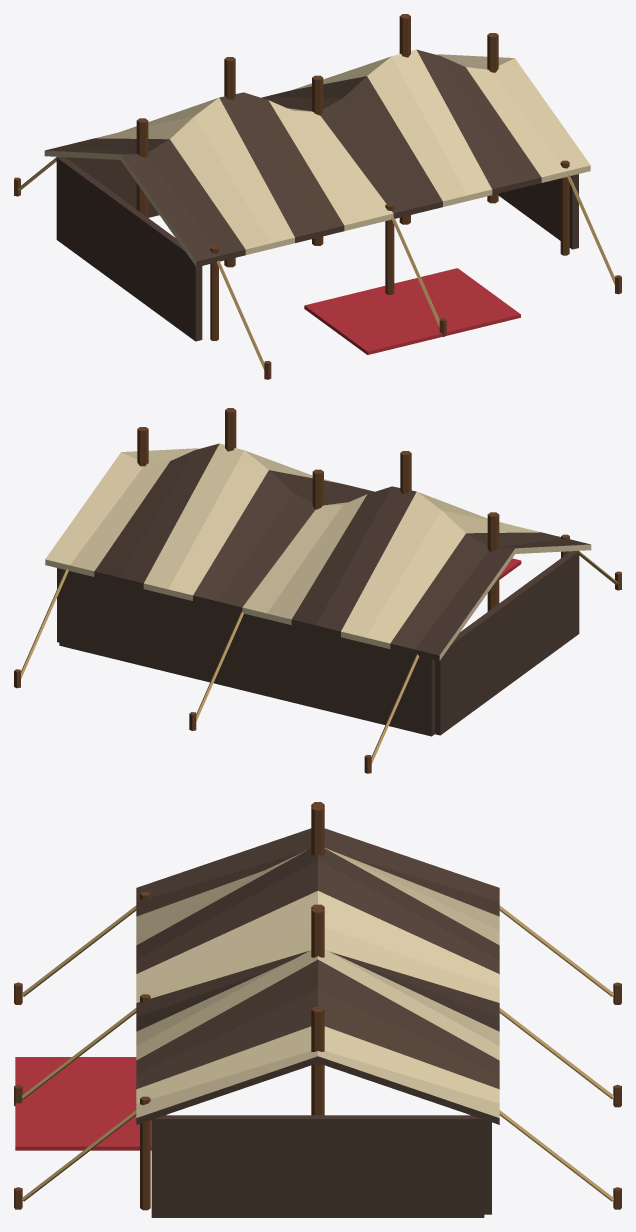
The model's file is desert-tent.glb.
3 renders of one model, top to bottom at view 1: azimuth 30°, elevation 25°; view 2: azimuth 150°, elevation 25°; view 3: azimuth 270°, elevation 25°, orthographic. The views are drawn at different scales.
Parts seen in each view (by area): view 1: Tent roof, Tent side walls, Tent rug, Tent poles, Tent back wall, Tent guy ropes, Tent pegs; view 2: Tent roof, Tent back wall, Tent side walls, Tent poles, Tent guy ropes, Tent pegs; view 3: Tent roof, Tent side walls, Tent rug, Tent guy ropes, Tent poles, Tent pegs, Tent back wall.
Boxes of the visible parts, x1,y1,x2,y2 form: Tent roof: (44, 49, 590, 267); Tent side walls: (56, 157, 578, 341); Tent rug: (304, 268, 520, 354); Tent poles: (136, 14, 569, 340); Tent back wall: (66, 157, 159, 217); Tent guy ropes: (17, 157, 614, 369); Tent pegs: (14, 177, 621, 379); Tent roof: (45, 443, 591, 661); Tent back wall: (59, 568, 434, 736); Tent side walls: (57, 551, 579, 735); Tent poles: (137, 408, 569, 611); Tent guy ropes: (21, 551, 618, 763); Tent pegs: (14, 571, 621, 773); Tent roof: (136, 828, 499, 1124); Tent side walls: (151, 1115, 484, 1217); Tent rug: (15, 1057, 166, 1150); Tent guy ropes: (22, 905, 613, 1201); Tent poles: (140, 802, 324, 1210); Tent pegs: (14, 982, 621, 1209); Tent back wall: (484, 1120, 491, 1214).
Size of the model in its own units: 3.6 by 1.8 by 4.02.
